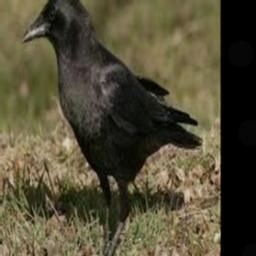Crow: (22, 0, 200, 256)
